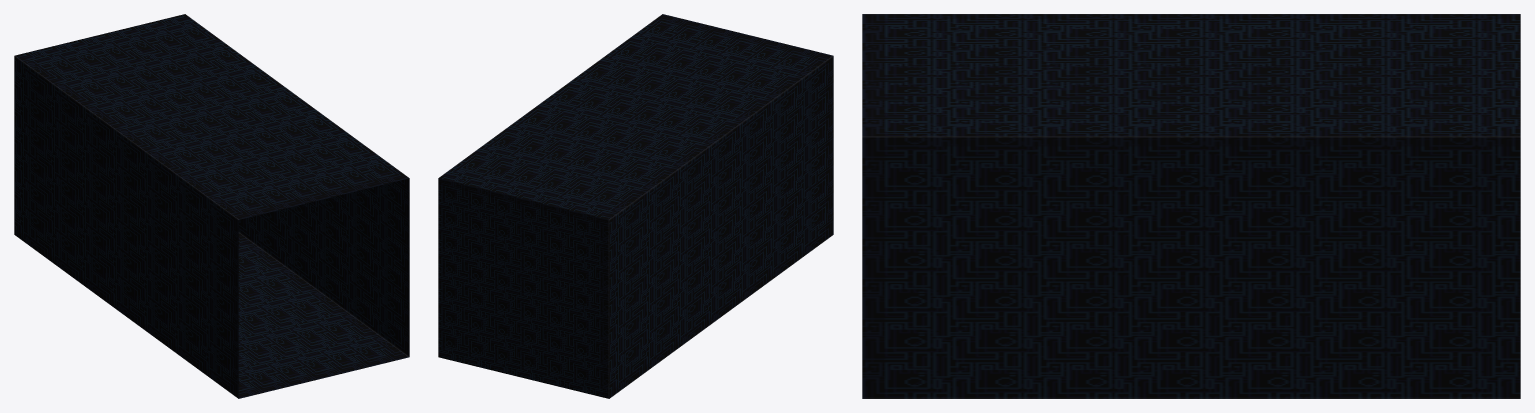
The model's file is glass.glb.
3 renders of one model, left to right at view 1: azimuth 30°, elevation 25°; view 2: azimuth 150°, elevation 25°; view 3: azimuth 270°, elevation 25°, orthographic. The views are drawn at different scales.
Parts seen in each view (by area): view 1: glass; view 2: glass; view 3: glass.
Part boxes in pixels (x1=…): glass: x1=14, y1=14, x2=409, y2=398; glass: x1=438, y1=14, x2=833, y2=398; glass: x1=862, y1=14, x2=1520, y2=398.
Size of the model in its own units: 2.2 by 2.2 by 5.
1 material, 1 textured.
